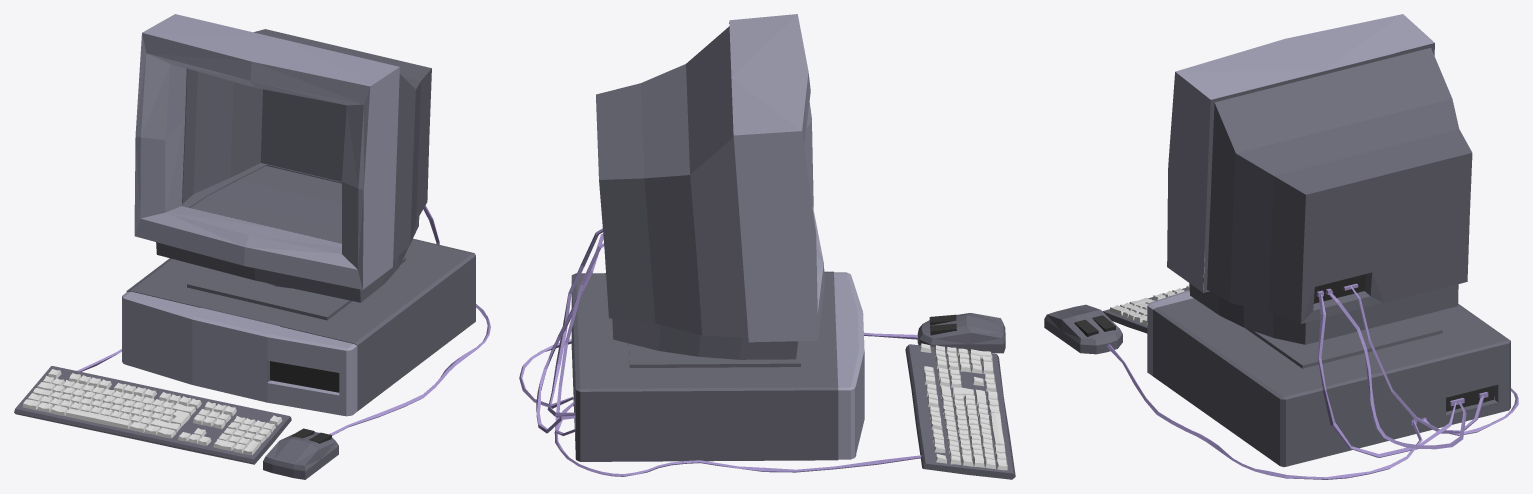
Rendered from compressed_computer_setup.glb.
3 renders of one model, left to right at view 1: azimuth 30°, elevation 25°; view 2: azimuth 150°, elevation 25°; view 3: azimuth 270°, elevation 25°, orthographic. The views are drawn at different scales.
Visible parts, largest first — view 1: monitor_base, computer, keyboard, mouse, cables; view 2: monitor_base, computer, keyboard, cables, mouse; view 3: monitor_base, computer, cables, mouse, keyboard.
Part boxes in pixels (left/top/right/bottom): monitor_base: left=134, top=14, right=431, bottom=320; computer: left=122, top=238, right=475, bottom=416; keyboard: left=14, top=366, right=291, bottom=464; mouse: left=263, top=428, right=338, bottom=479; cables: left=77, top=205, right=490, bottom=435; monitor_base: left=596, top=14, right=824, bottom=367; computer: left=571, top=271, right=864, bottom=461; keyboard: left=905, top=343, right=1015, bottom=479; cables: left=519, top=228, right=921, bottom=476; mouse: left=917, top=313, right=1005, bottom=353; monitor_base: left=1167, top=14, right=1472, bottom=368; computer: left=1147, top=290, right=1510, bottom=467; cables: left=1107, top=283, right=1518, bottom=479; mouse: left=1044, top=304, right=1122, bottom=354; keyboard: left=1102, top=285, right=1189, bottom=333.
Bounding box in the file's own units: 2.48 × 1.64 × 2.18.
